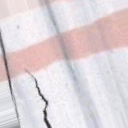crackTip: (1, 26, 56, 128)
